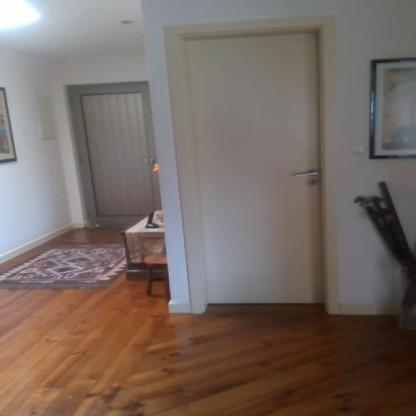door: (166, 15, 342, 312), (57, 80, 162, 236)
